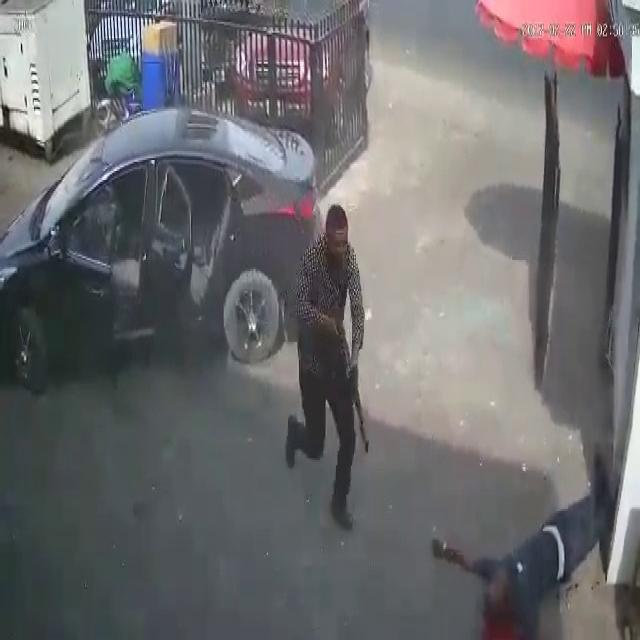weapon: (318, 287, 375, 462)
